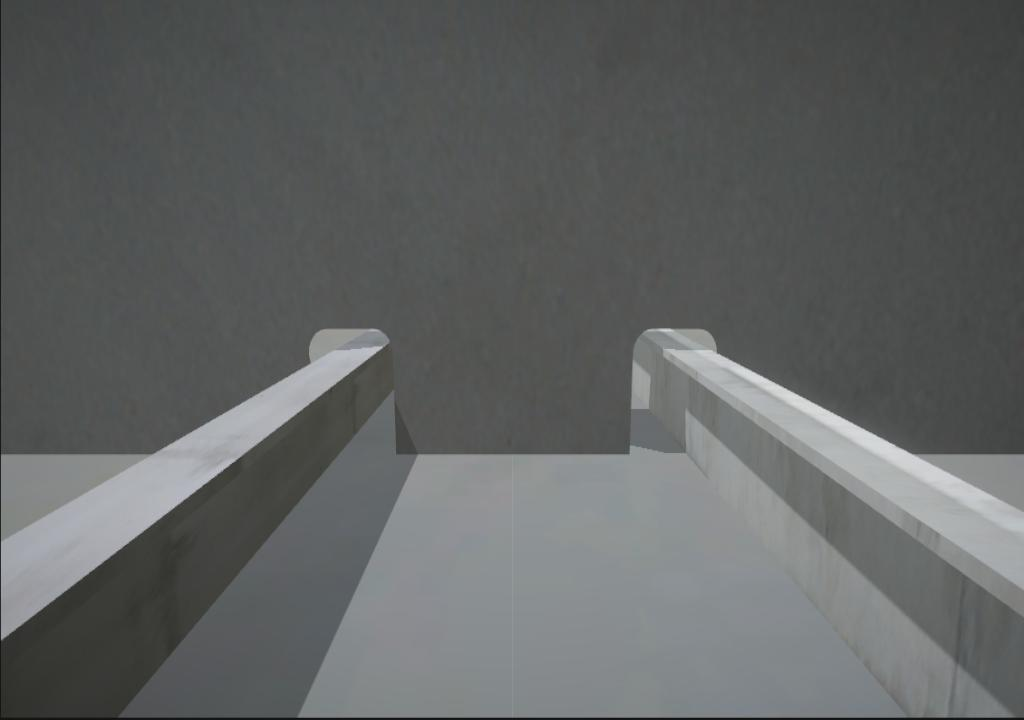fillet_yong_jeop_jang: (393, 443, 643, 462)
